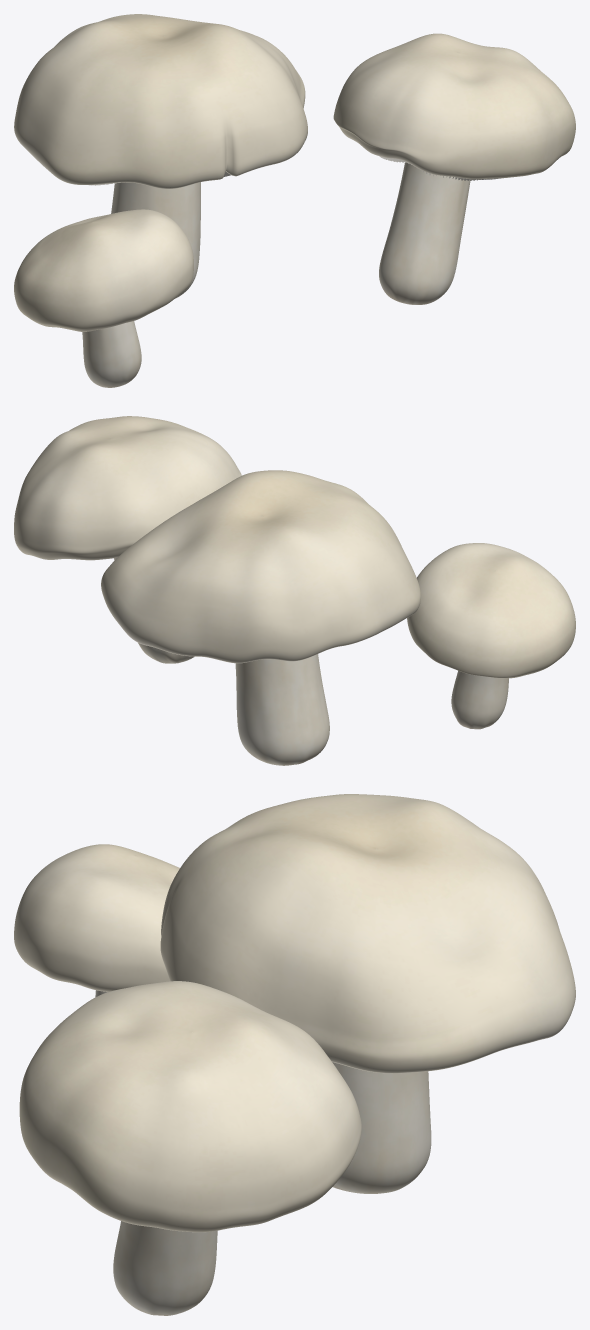
The model's file is calocybe-gambosa.glb.
The picture shows the model from 3 angles, top to bottom: view 1: azimuth 30°, elevation 25°; view 2: azimuth 150°, elevation 25°; view 3: azimuth 270°, elevation 25°; orthographic projection. The views are drawn at different scales.
Visible parts, largest first — view 1: cap, cap-b, cap-c, stem-b, stem, stem-c; view 2: cap, cap-b, cap-c, stem, stem-c, stem-b; view 3: cap, cap-b, cap-c, stem, stem-b.
Boxes of the visible parts, x1,y1,x2,y2 form: cap: (14, 14, 307, 188); cap-b: (333, 33, 575, 179); cap-c: (14, 209, 193, 331); stem-b: (379, 162, 470, 304); stem: (111, 182, 200, 298); stem-c: (82, 321, 141, 387); cap: (101, 470, 420, 663); cap-b: (14, 416, 241, 560); cap-c: (407, 543, 575, 678); stem: (235, 654, 329, 765); stem-c: (451, 670, 508, 729); stem-b: (114, 557, 194, 663); cap: (160, 794, 575, 1073); cap-b: (19, 981, 361, 1232); cap-c: (14, 844, 179, 991); stem: (332, 1062, 431, 1193); stem-b: (113, 1221, 217, 1315).
Size of the model in its own units: 0.1906 by 0.0898 by 0.123.
Materials: 9 (9 with a texture image).
